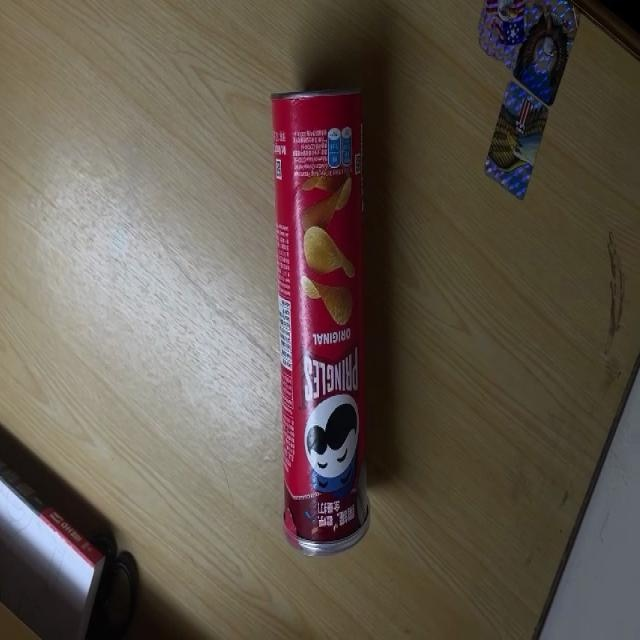Pringles: (268, 89, 370, 557)
